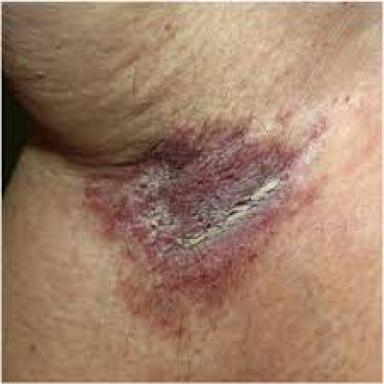Hailey-Hailey-Disease: (104, 130, 300, 299)
